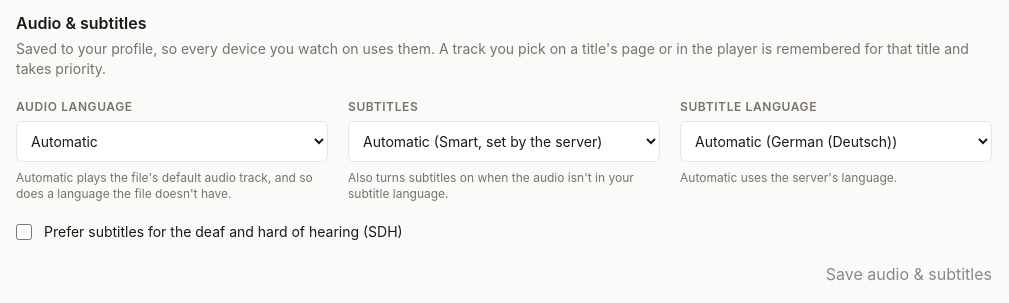
Scenario: saves the picks to the profile and Automatic as nothing chosen
Expected: the button "Save audio & subtitles" is disabled, 826,262 -> 992,286
Select "Japanese (日本語)" in the dropdown labelled "Audio language": {"x": 172, "y": 142} 16,121 -> 328,162
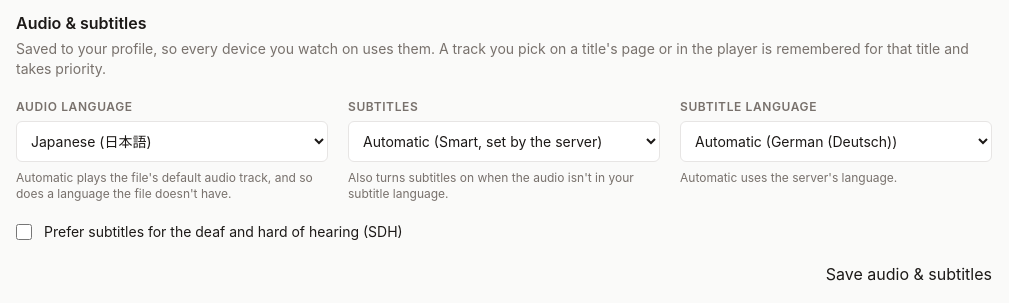
Select "Always" in the dropdown labelled "Subtitles": {"x": 504, "y": 142} 348,121 -> 660,162
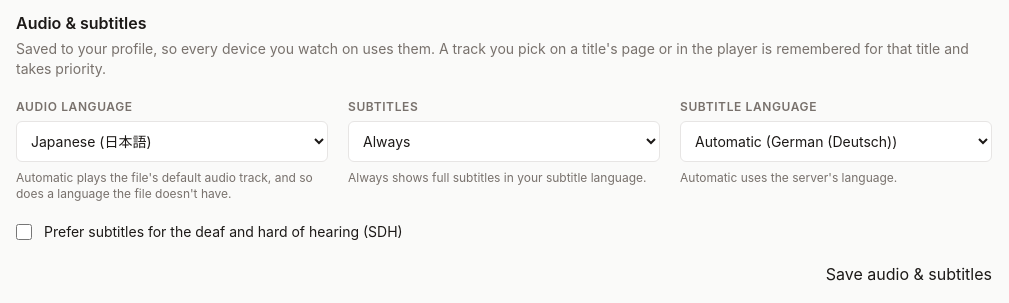
Click the checkbox labelled "Prefer subtitles for the deaf and hard of hearing (SDH)": {"x": 24, "y": 232} 16,224 -> 32,240
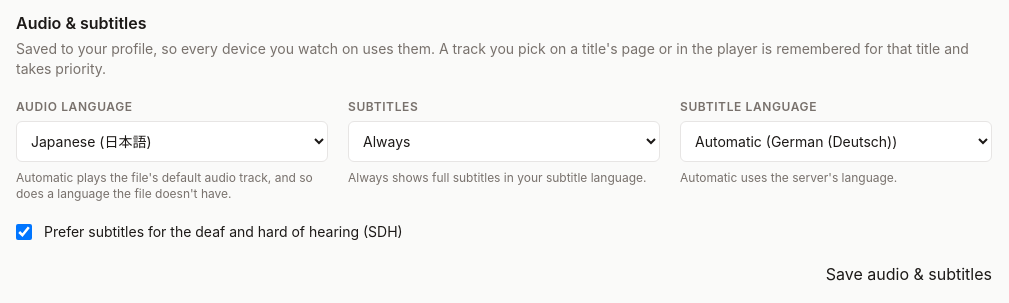
Result: the text "Always shows full subtitles in your subtitle language." is shown at 348,170 -> 660,186
Click the button "Save audio & subtitles": {"x": 909, "y": 274} 826,262 -> 992,286
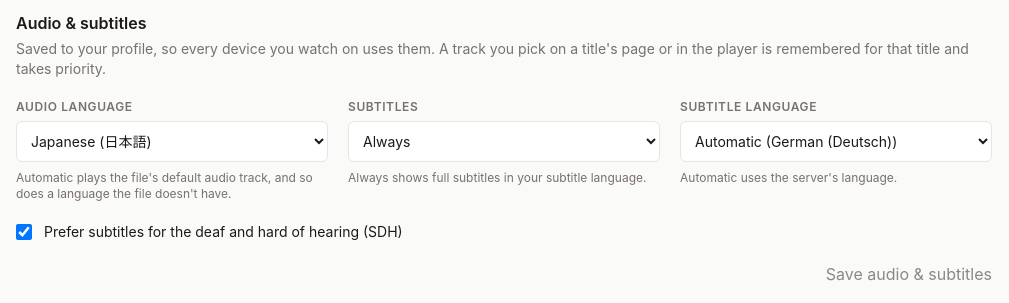
Result: the button "Save audio & subtitles" is disabled at 826,262 -> 992,286
